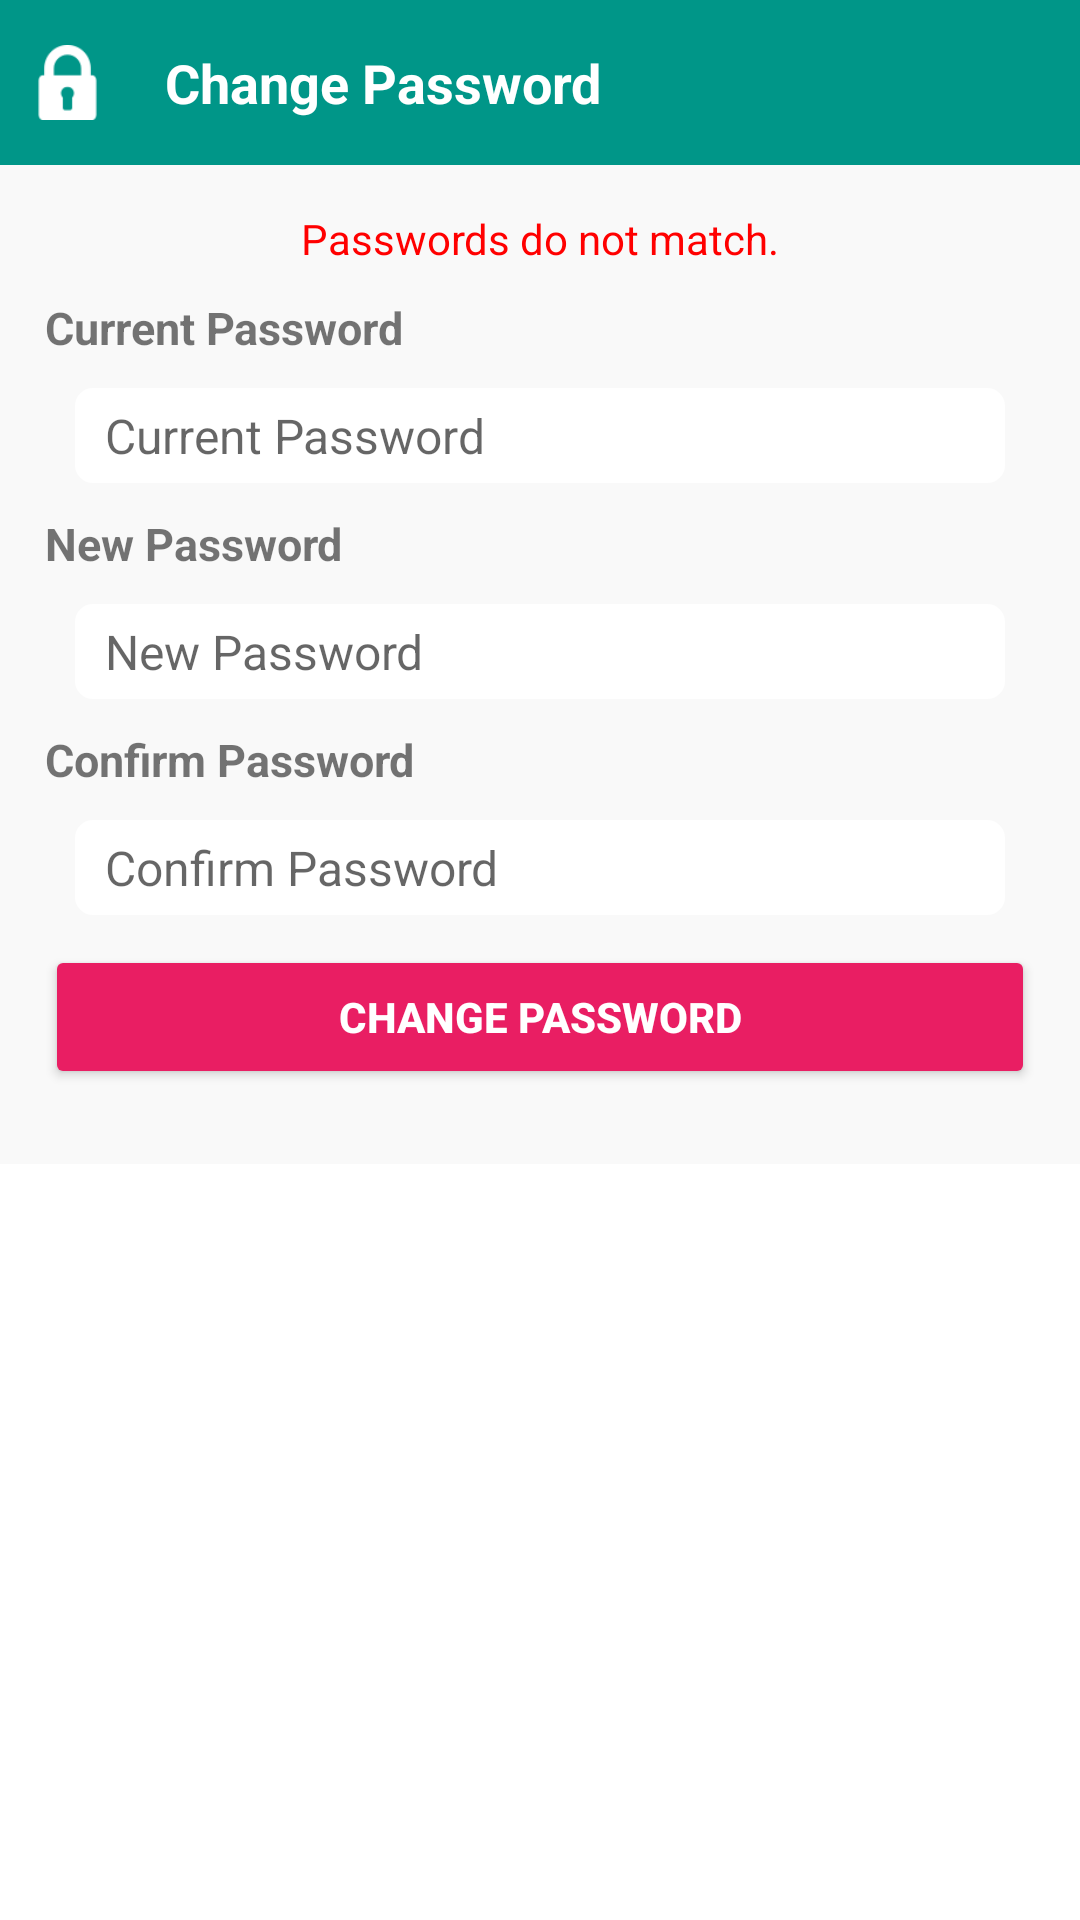

Point at icon controls on the screen. Image size 1080*1920, points as (x=x, y=y).
padlock: (x=67, y=82)
